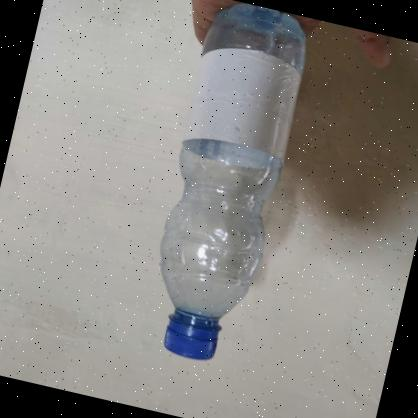bottle: (134, 0, 311, 367)
cap: (159, 311, 226, 364)
label: (181, 42, 300, 158)
